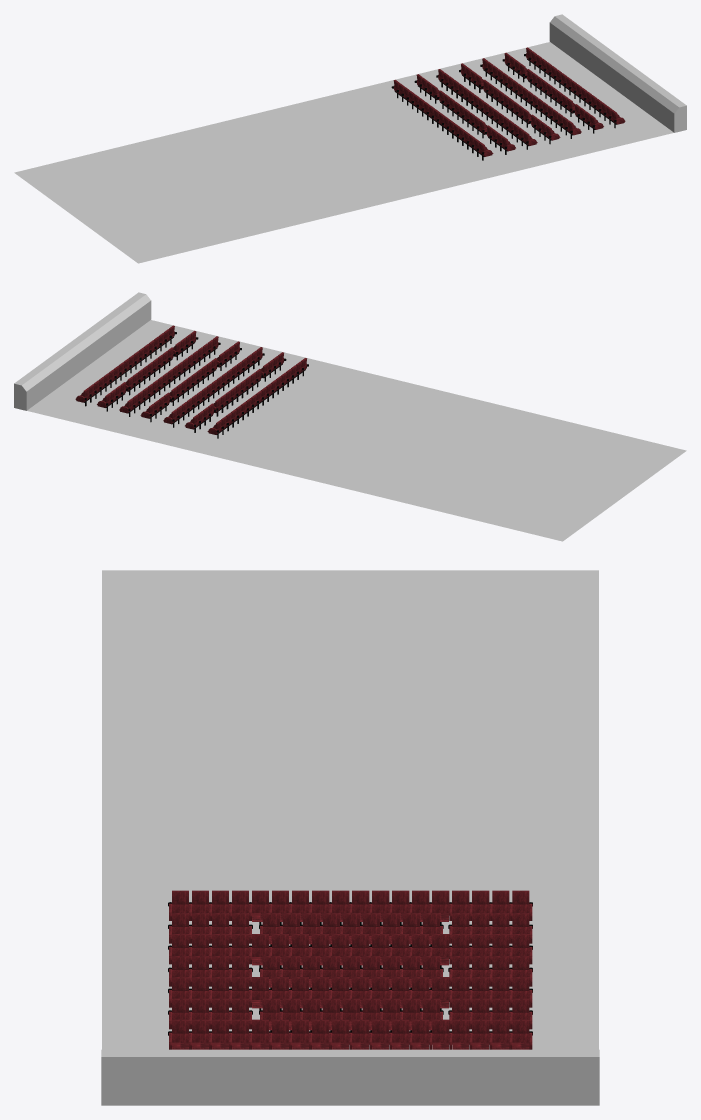
File: grand-teatret.obj
3 renders of one model, top to bottom at view 1: azimuth 30°, elevation 25°; view 2: azimuth 150°, elevation 25°; view 3: azimuth 270°, elevation 25°, orthographic. The views are drawn at different scales.
Visible parts, largest first — view 1: floor, front_panel; view 2: floor, front_panel; view 3: floor, front_panel.
Boxes of the visible parts, x1,y1,x2,y2 form: floor: (14,42,673,263); front_panel: (549,14,686,132); floor: (27,320,686,541); front_panel: (14,292,151,410); floor: (102,570,598,1049); front_panel: (101,1049,599,1105).
Bounding box in the file's own units: 3069 × 131 × 1208.
